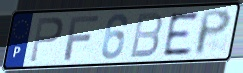6: (100, 13, 129, 61)
B: (128, 11, 164, 60)
E: (162, 10, 200, 58)
F: (62, 14, 101, 62)
P: (194, 7, 233, 57), (28, 16, 65, 64)
